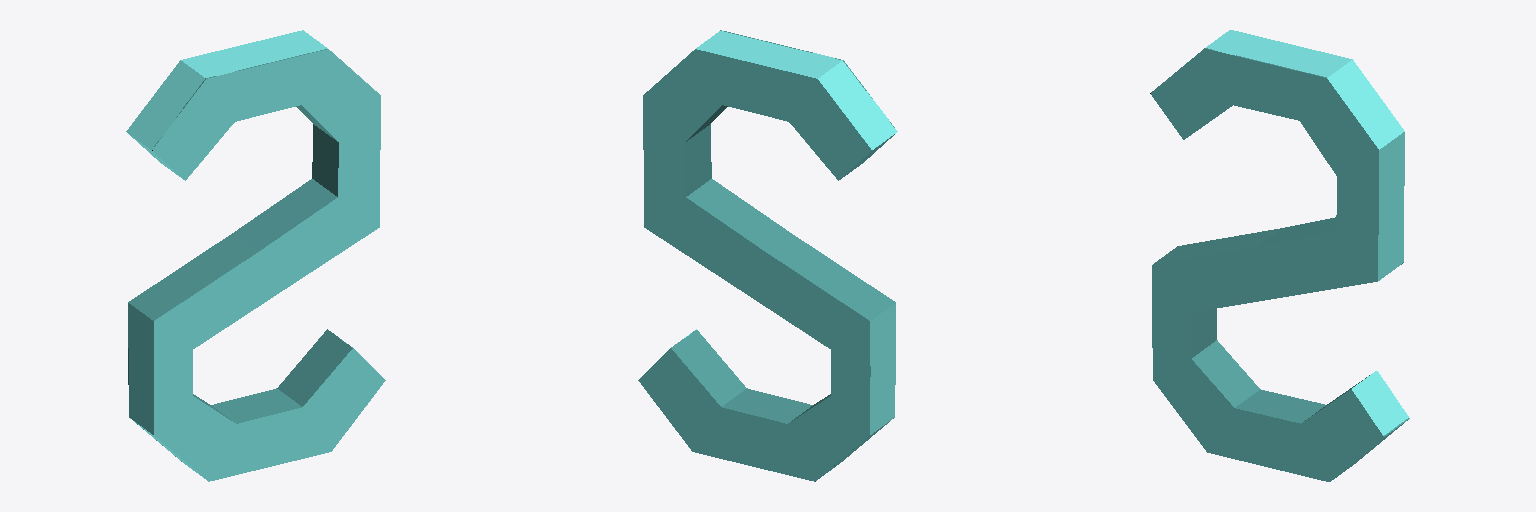
3 views of the same model, side by side, from view 1: azimuth 30°, elevation 25°; view 2: azimuth 150°, elevation 25°; view 3: azimuth 330°, elevation 25° (orthographic).
Visible parts, largest first — view 1: 平面.004; view 2: 平面.004; view 3: 平面.004.
Part boxes in pixels (bbox=[...]): 平面.004: bbox=[126, 30, 385, 481]; 平面.004: bbox=[638, 30, 897, 481]; 平面.004: bbox=[1150, 30, 1409, 481].
Bounding box in the file's own units: 1.35 × 2.22 × 0.2565.
1 materials, 1 textured.